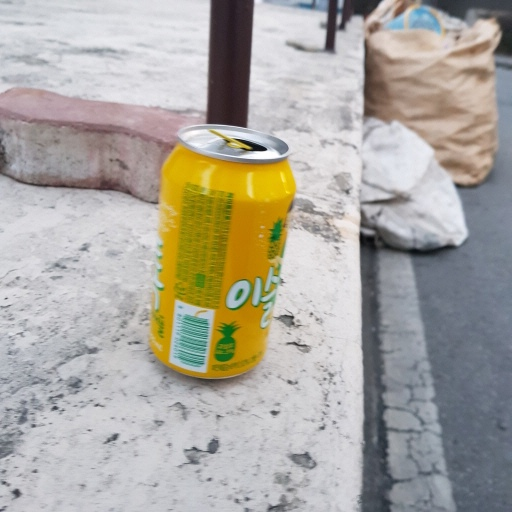Metal_0: (141, 125, 296, 377)
